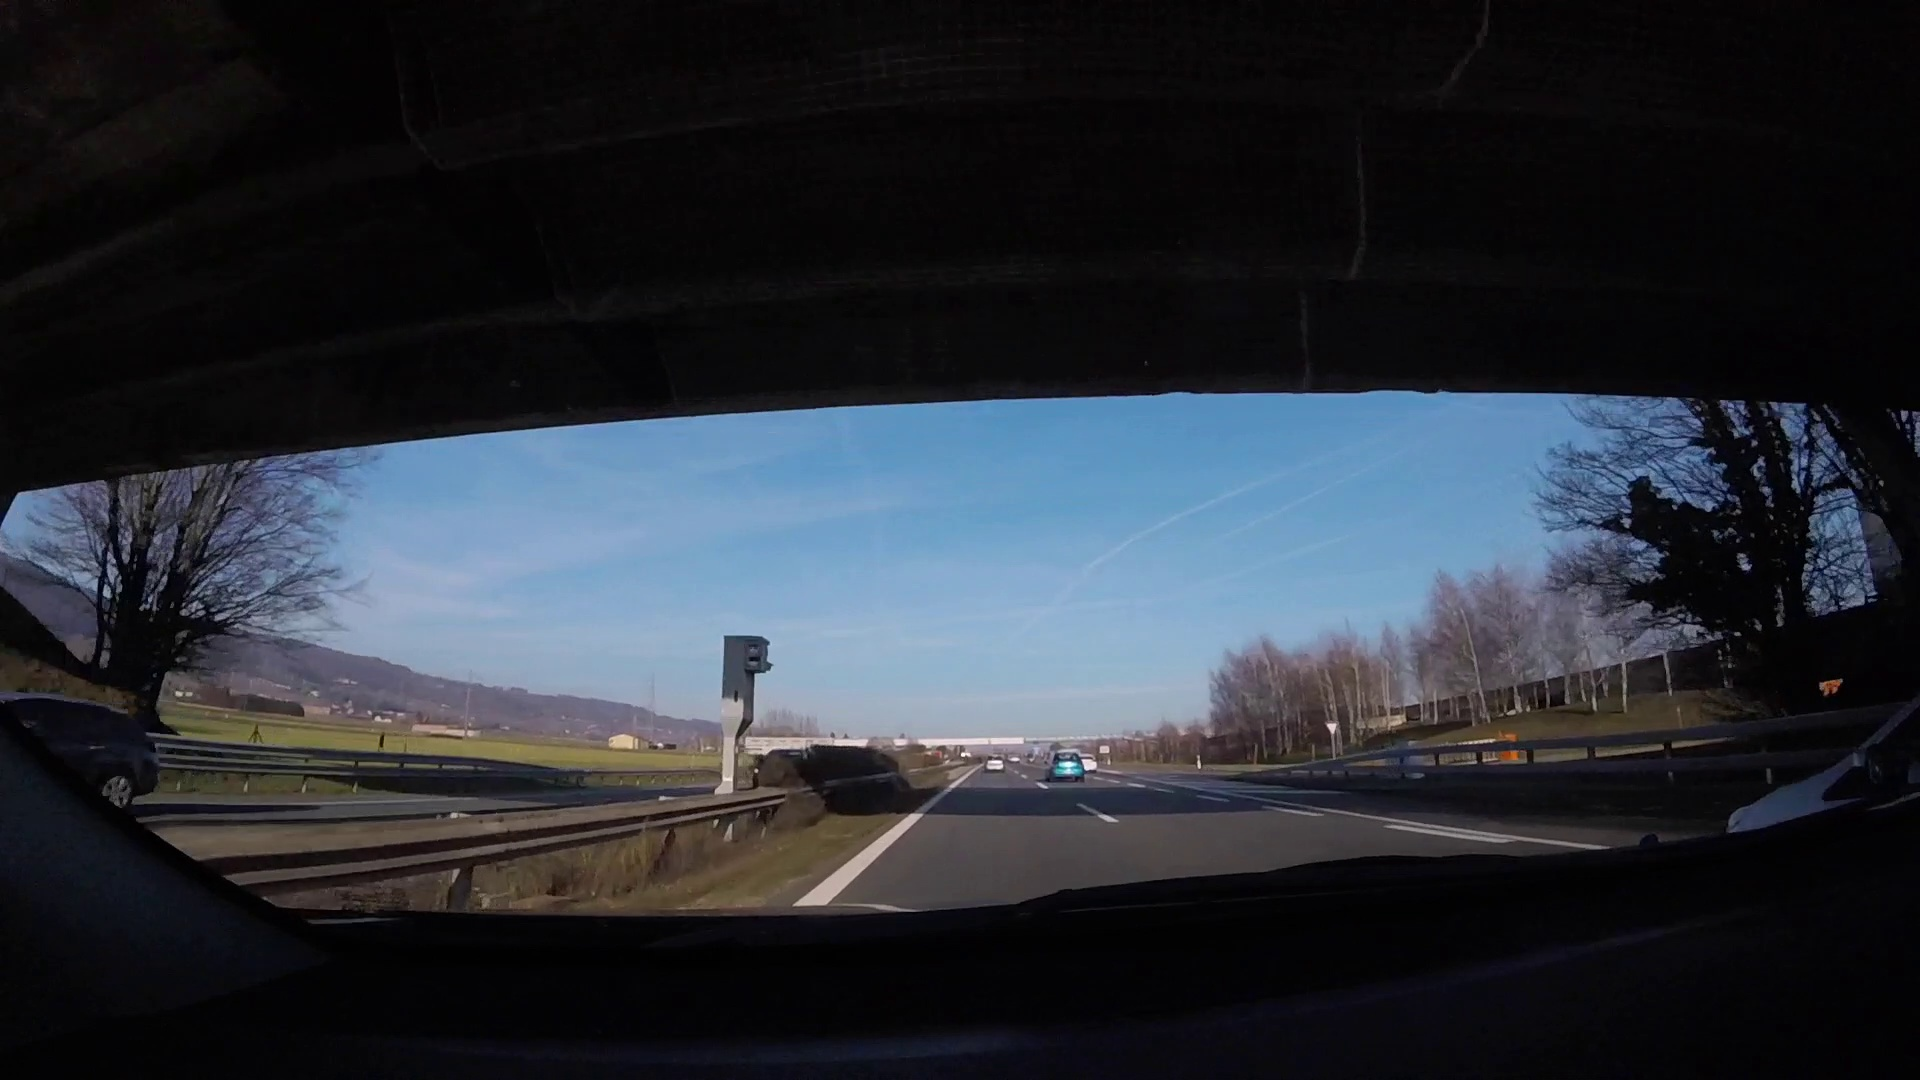radar: (720, 634, 775, 785)
